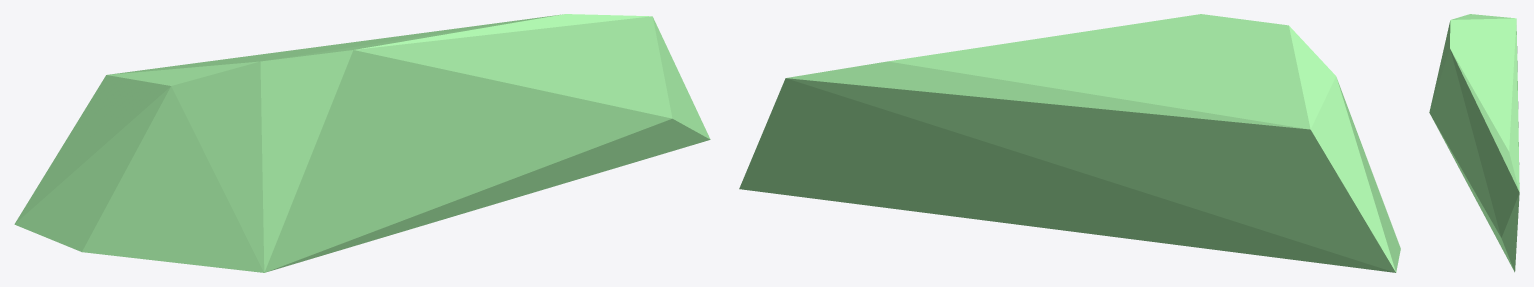
Rendered from UMIRobot_UMIRobot_link_2_convex_coll_9.dae.
3 views of the same model, side by side, from view 1: azimuth 30°, elevation 25°; view 2: azimuth 150°, elevation 25°; view 3: azimuth 270°, elevation 25° (orthographic). The views are drawn at different scales.
Visible parts, largest first — view 1: node; view 2: node; view 3: node.
Boxes of the visible parts, x1,y1,x2,y2 form: node: (14, 14, 710, 272); node: (739, 14, 1400, 272); node: (1429, 14, 1519, 272).
Size of the model in its own units: 0.0497 by 0.0172 by 0.0111.
